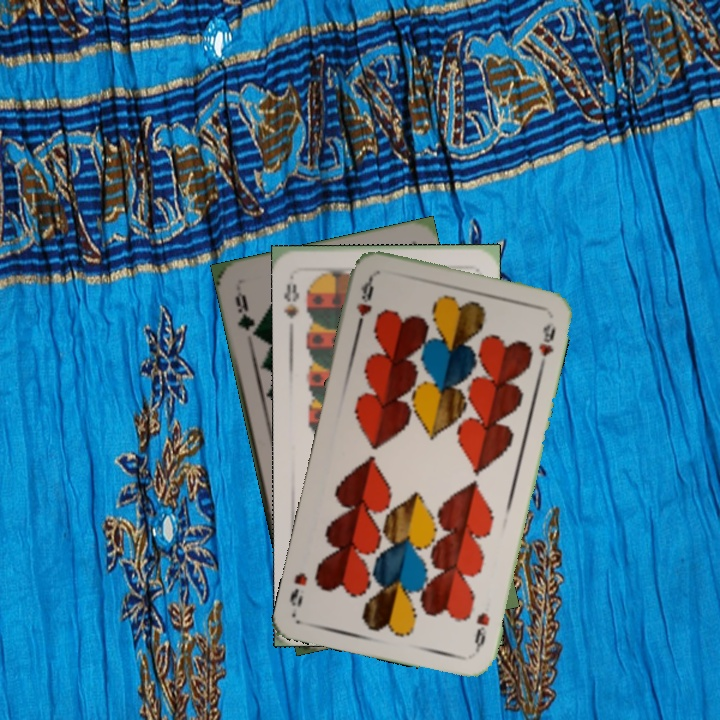G9: (231, 288, 261, 340)
H9: (352, 272, 376, 331), (470, 608, 493, 654)
S8: (280, 280, 302, 321)
